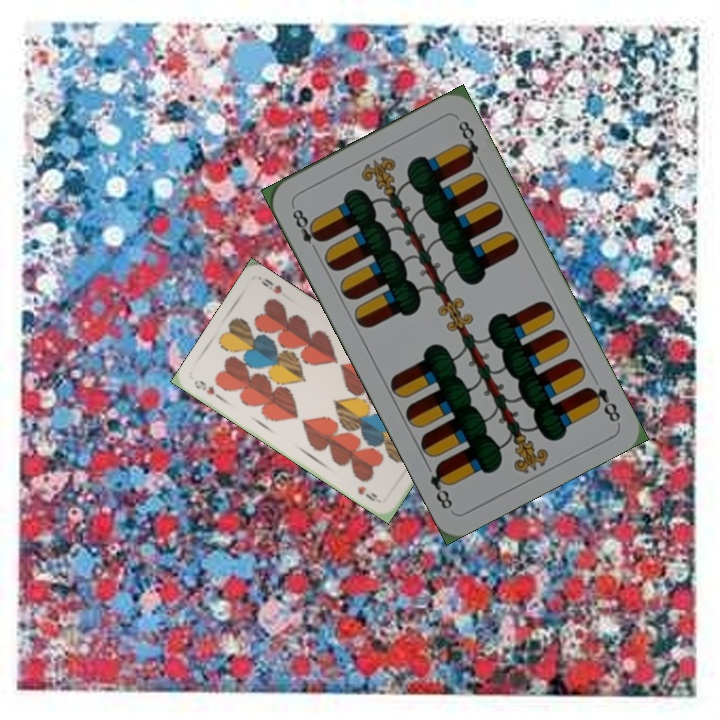E8: (288, 201, 326, 256), (582, 383, 623, 425)
H9: (190, 376, 225, 403)
